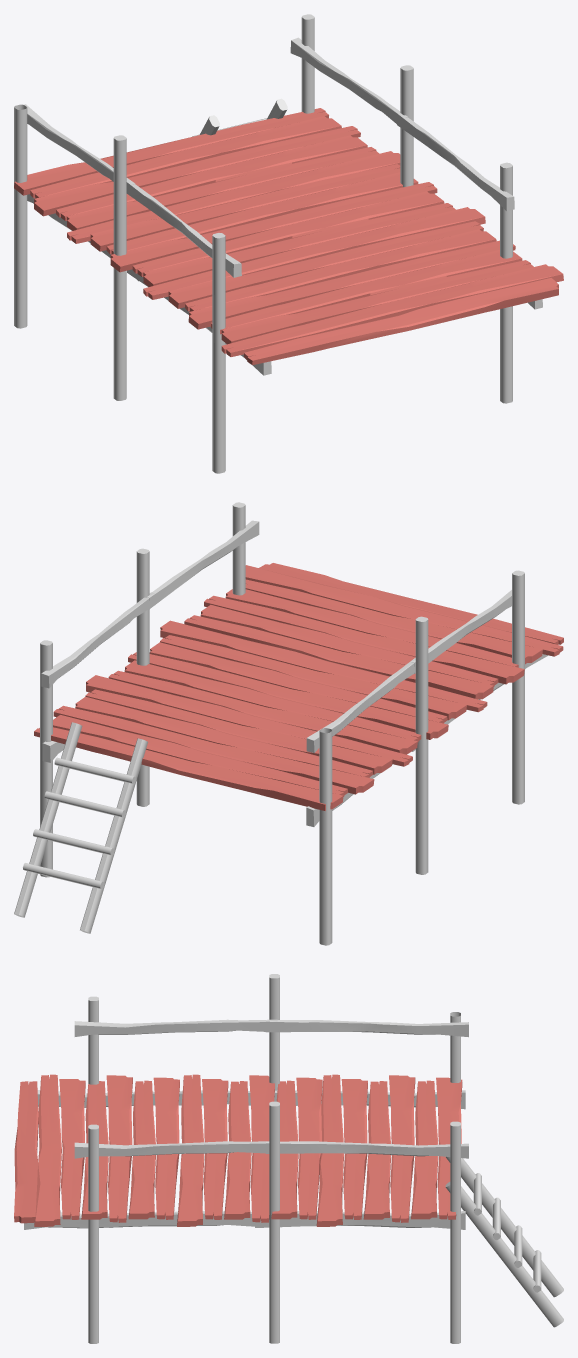
Rendered from SmallScaffolding.fbx.
3 renders of one model, top to bottom at view 1: azimuth 30°, elevation 25°; view 2: azimuth 150°, elevation 25°; view 3: azimuth 270°, elevation 25°, orthographic. The views are drawn at different scales.
Visible parts, largest first — view 1: PetitEchaffaudage; view 2: PetitEchaffaudage; view 3: PetitEchaffaudage.
Boxes of the visible parts, <box> form: PetitEchaffaudage: <box>14,14,563,473</box>; PetitEchaffaudage: <box>14,502,563,945</box>; PetitEchaffaudage: <box>14,974,563,1343</box>.
Bounding box in the file's own units: 771 × 580 × 1216.
